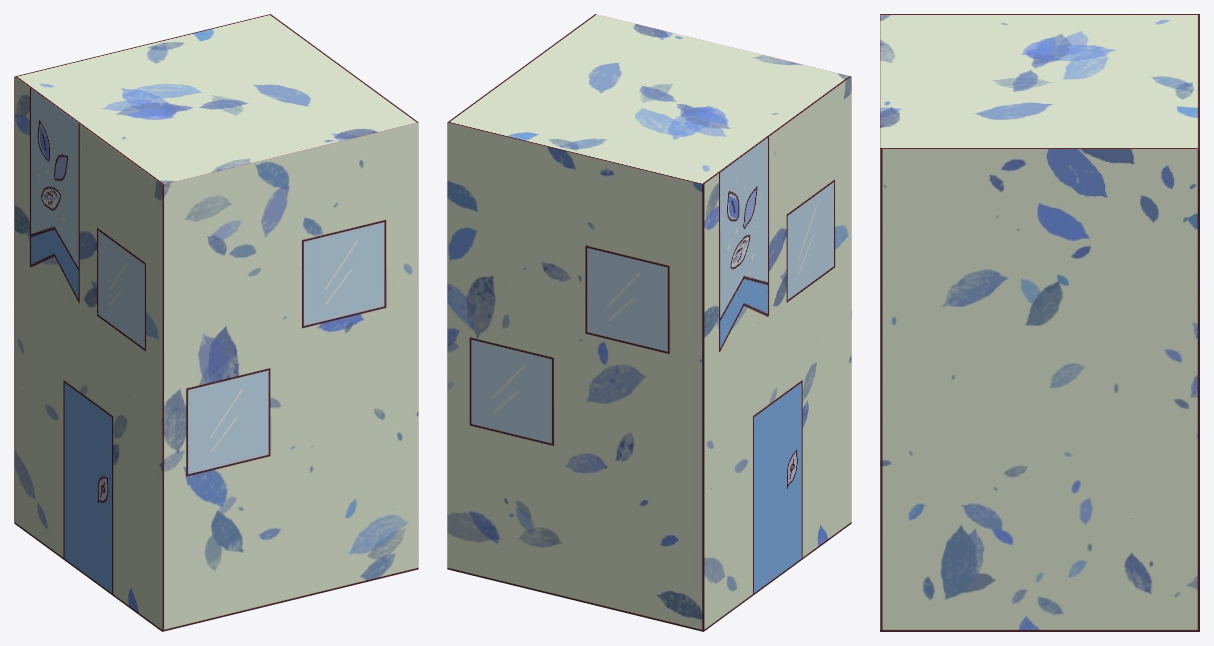
File: D_Building10.fbx
3 renders of one model, left to right at view 1: azimuth 30°, elevation 25°; view 2: azimuth 150°, elevation 25°; view 3: azimuth 270°, elevation 25°, orthographic. The views are drawn at different scales.
Parts seen in each view (by area): view 1: Box001; view 2: Box001; view 3: Box001.
Boxes of the visible parts, bbox=[...] form: Box001: bbox=[14, 14, 418, 631]; Box001: bbox=[447, 14, 851, 631]; Box001: bbox=[880, 14, 1199, 631].
Bounding box in the file's own units: 360 × 600 × 360.
1 material, 1 textured.
